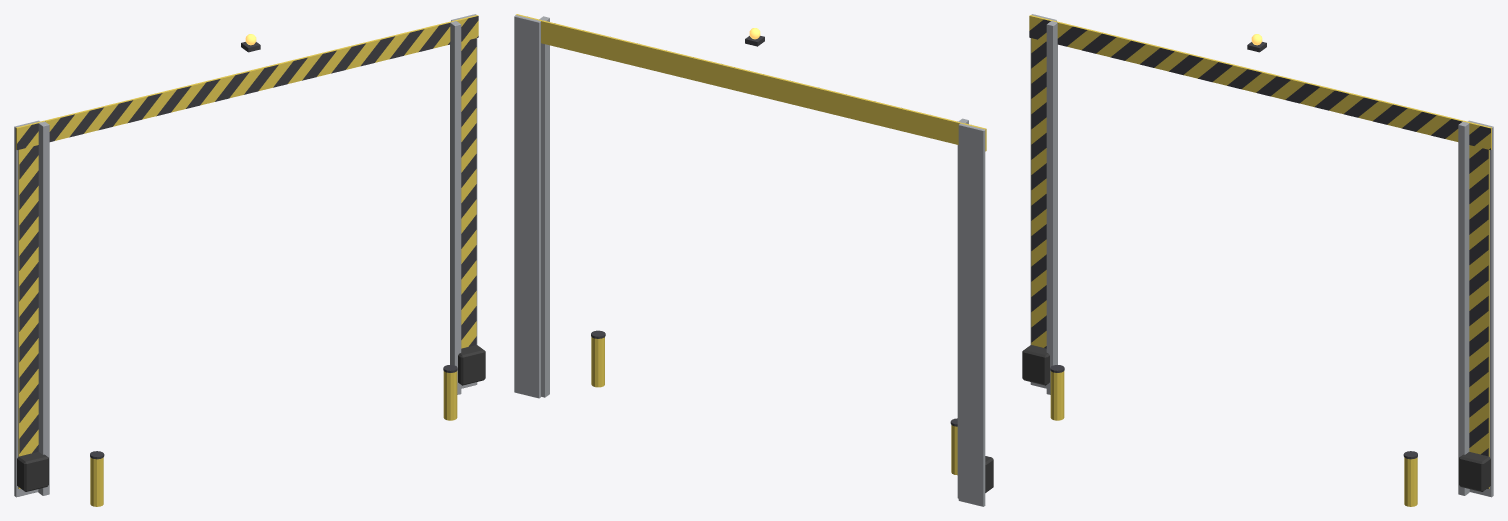
Rendered from factory_portal.glb.
3 renders of one model, left to right at view 1: azimuth 30°, elevation 25°; view 2: azimuth 150°, elevation 25°; view 3: azimuth 330°, elevation 25°, orthographic.
Visible parts, largest first — view 1: ff_portal_mesh; view 2: ff_portal_mesh; view 3: ff_portal_mesh.
Boxes of the visible parts, bbox=[...] form: ff_portal_mesh: bbox=[14, 14, 485, 506]; ff_portal_mesh: bbox=[514, 14, 993, 506]; ff_portal_mesh: bbox=[1022, 14, 1493, 506].
Bounding box in the file's own units: 11.1 × 9.42 × 1.35.
